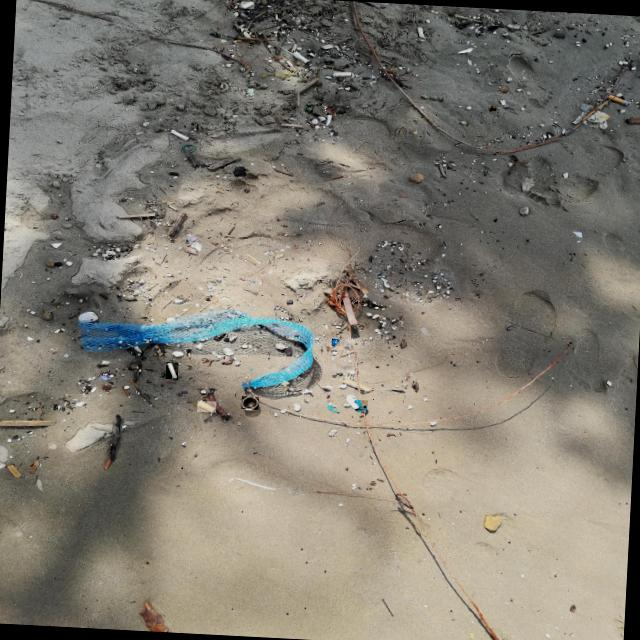Bottle cap: (242, 397, 259, 410)
Cigarette: (608, 95, 630, 107), (198, 402, 216, 413), (294, 52, 309, 64), (171, 129, 187, 140), (242, 2, 254, 9), (334, 73, 351, 77), (418, 28, 424, 38), (491, 106, 496, 111), (276, 15, 279, 21)
Other plastic bottle: (355, 401, 368, 411), (332, 339, 340, 346)
Unlabeled litter: (167, 363, 178, 379), (186, 235, 199, 243), (100, 377, 111, 380)
